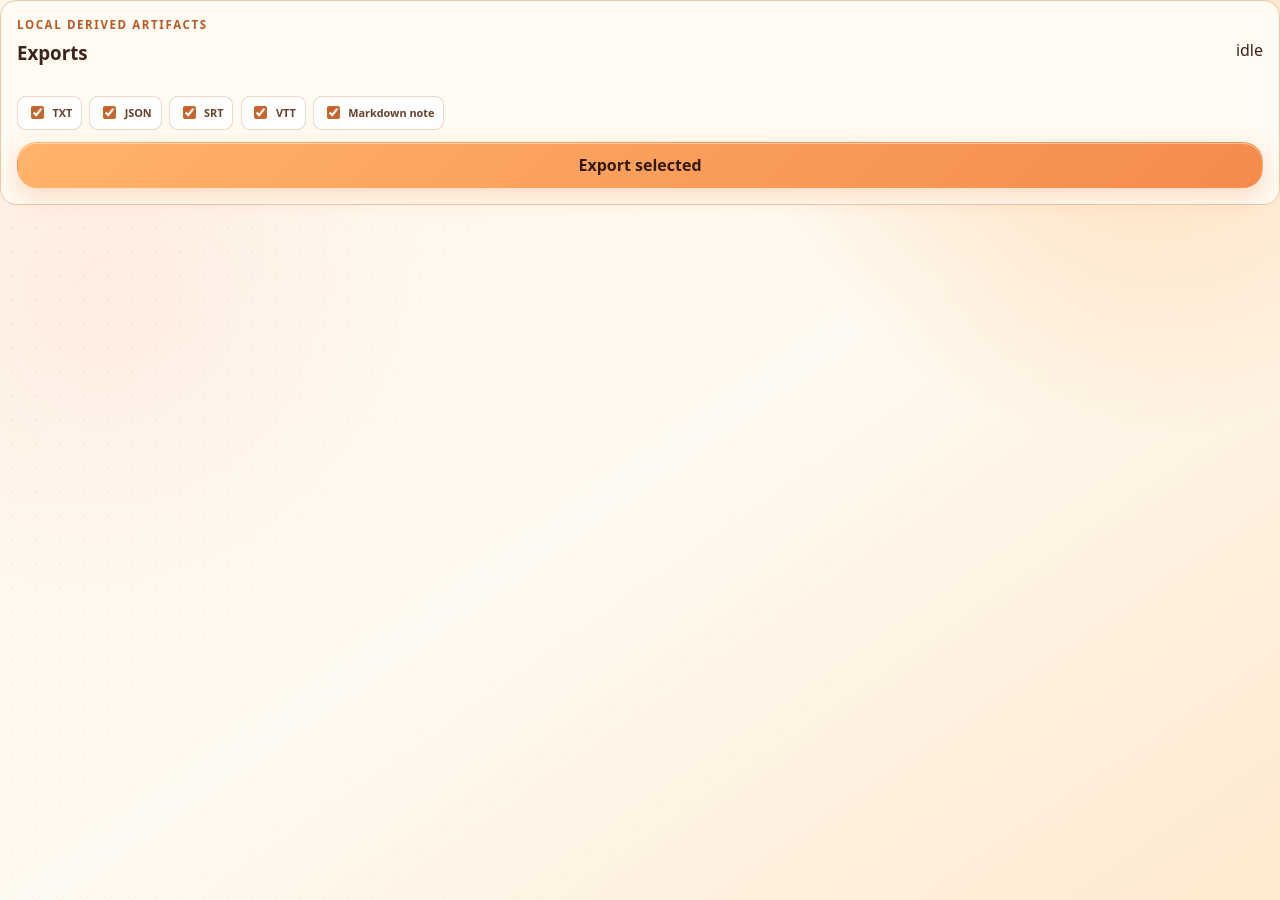
Test: ExportPanel › exports selected local artifacts and shows returned paths
Click the button "Export selected" at [640, 165], box left=17, top=142, right=1263, bottom=188
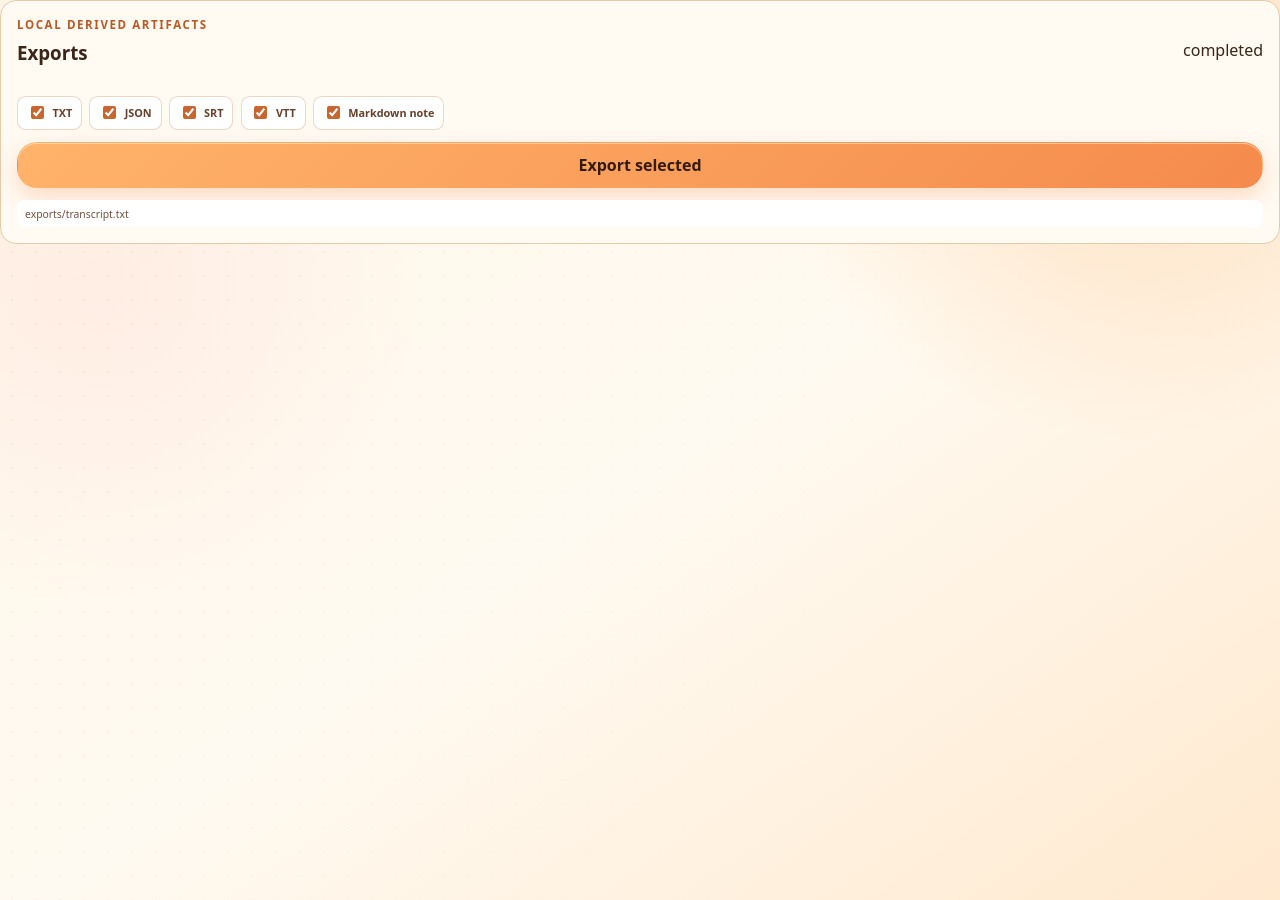
Expected: the list named "Exported files" reads "exports/transcript.txt", left=25, top=207, right=129, bottom=221
